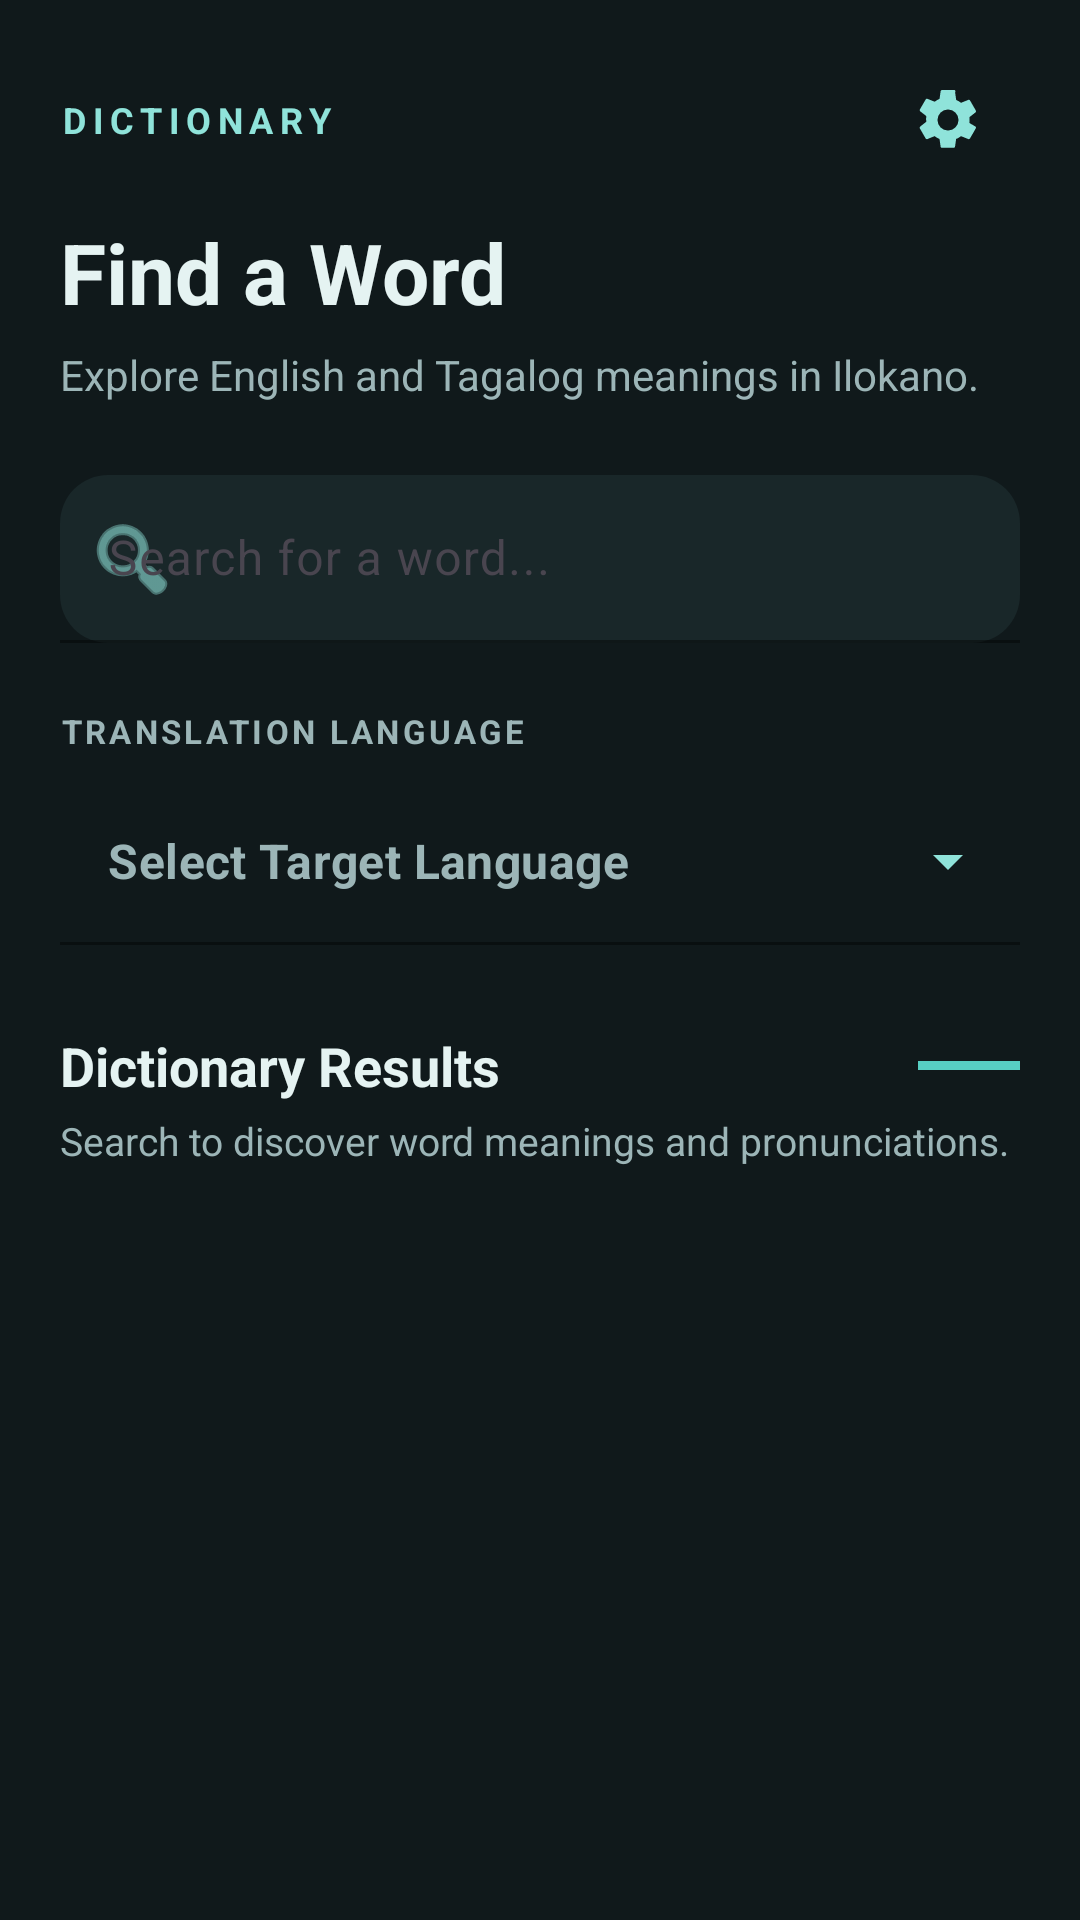

Point at icon controls on the screen. Image size 1080px x 1920px, points as [x,y].
Open settings menu: [947,119]
